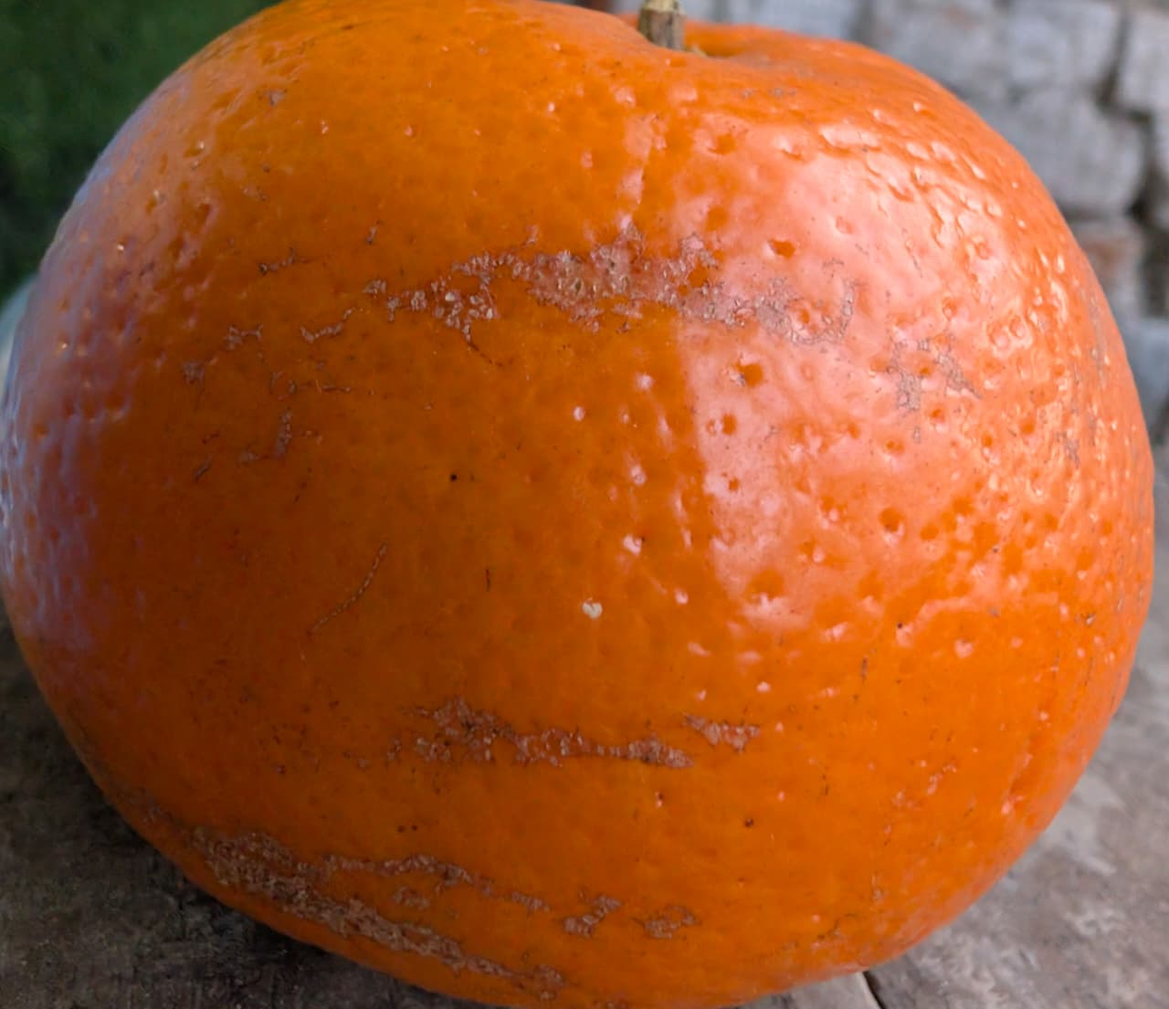orange: (207, 207, 950, 814)
